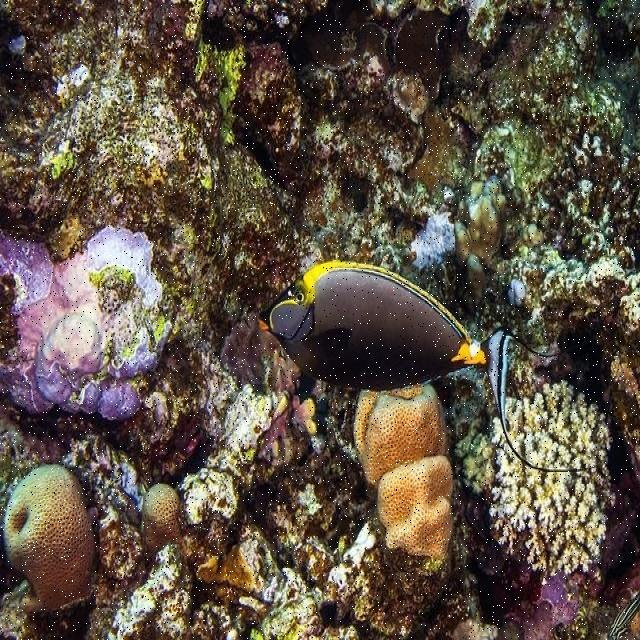fish: (256, 261, 597, 475), (607, 591, 639, 639)
reefs: (487, 377, 618, 585), (354, 382, 455, 568), (3, 464, 95, 617), (142, 483, 188, 568)
